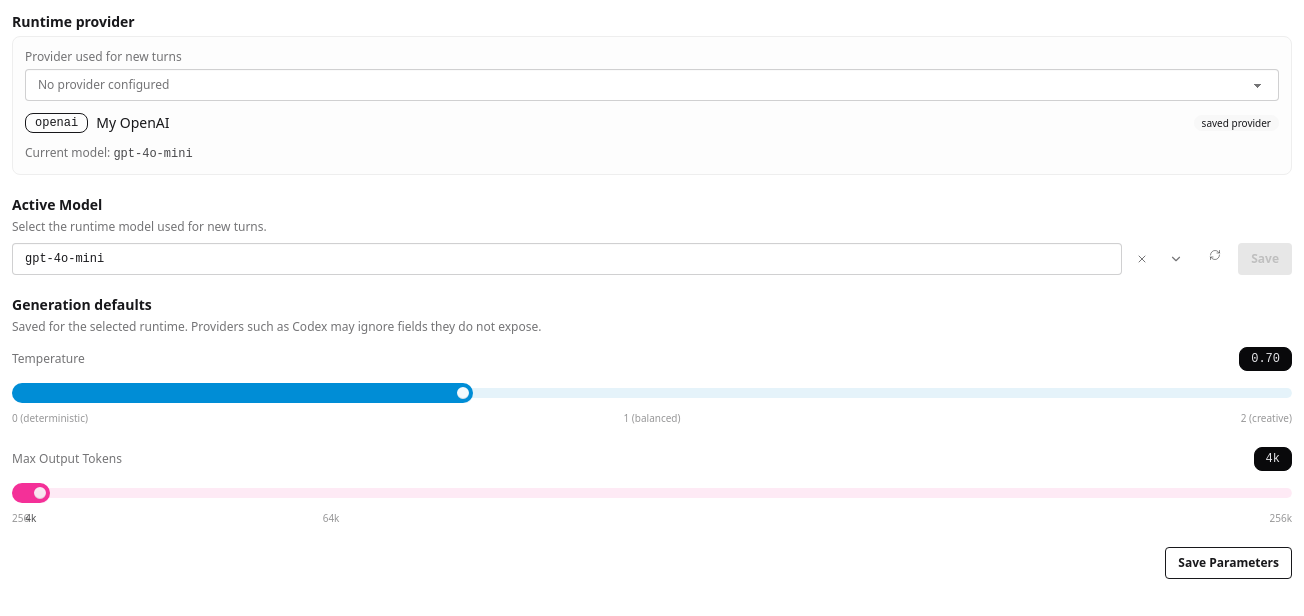
ModelSettingsSection › clears a stale model-save error before a successful retry (REGRESSION)
This screenshot has width=1304, height=616.
Clear the dropdown with test id "model-selector" at (567, 259), box [12, 243, 1122, 275]
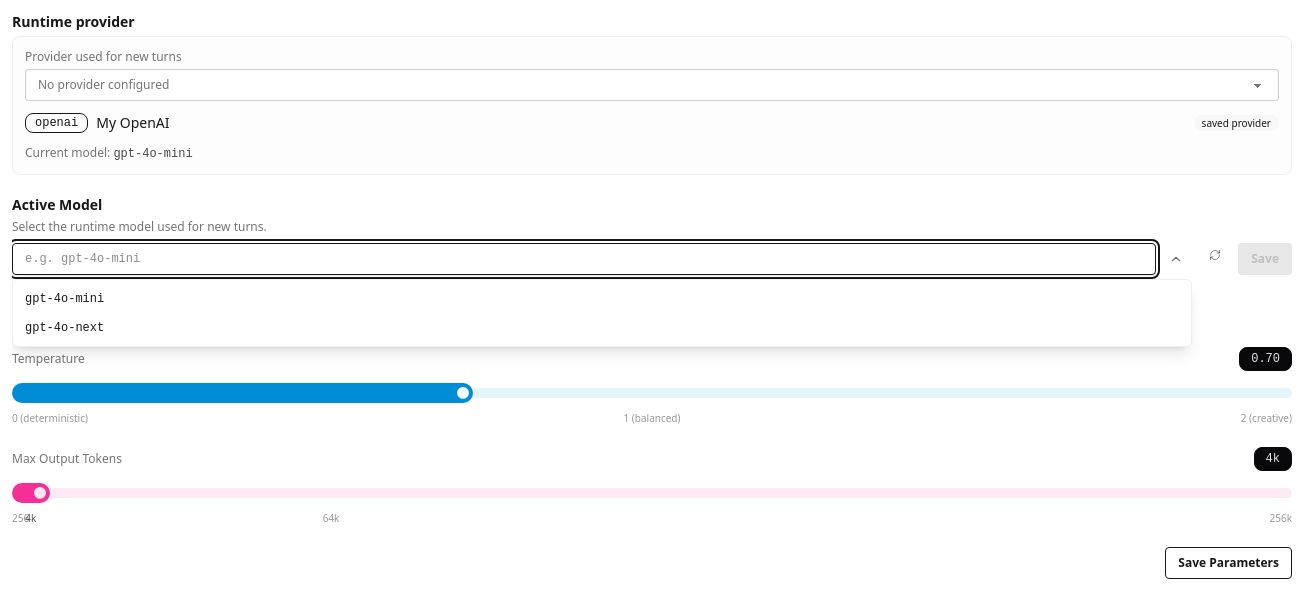
Type "gpt-4o-next" into the dropdown with test id "model-selector".
click(584, 259); type("gpt-4o-next")  # box [12, 243, 1156, 275]
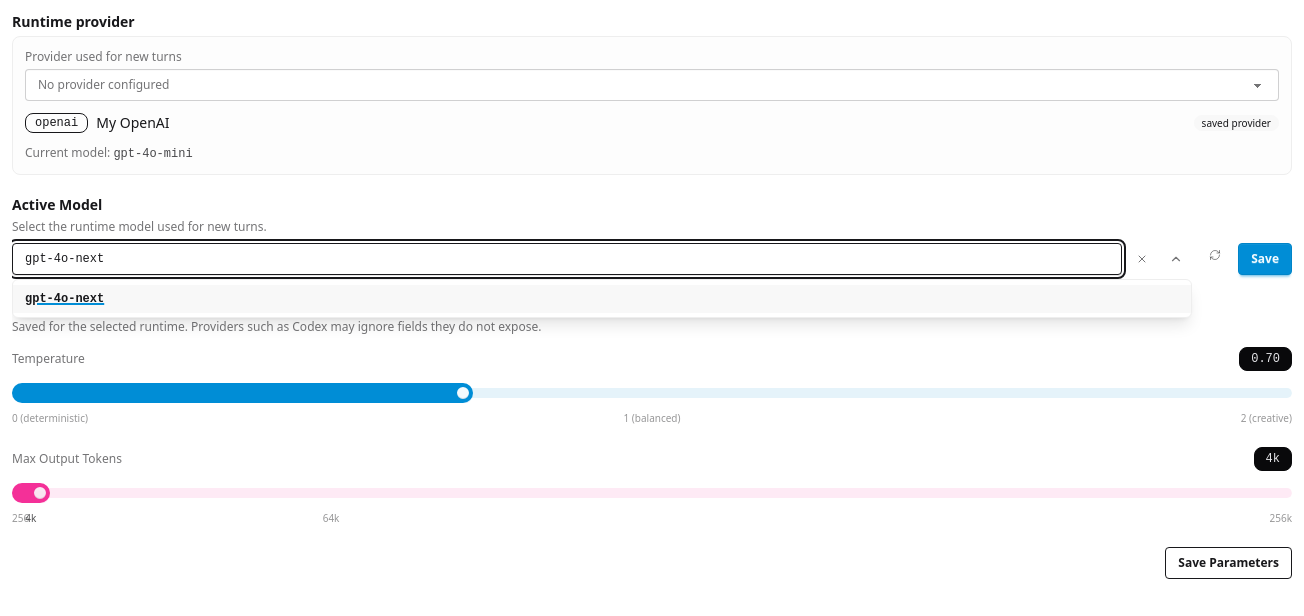
Click the button with test id "model-save".
click(1265, 259)  # box [1238, 243, 1292, 275]
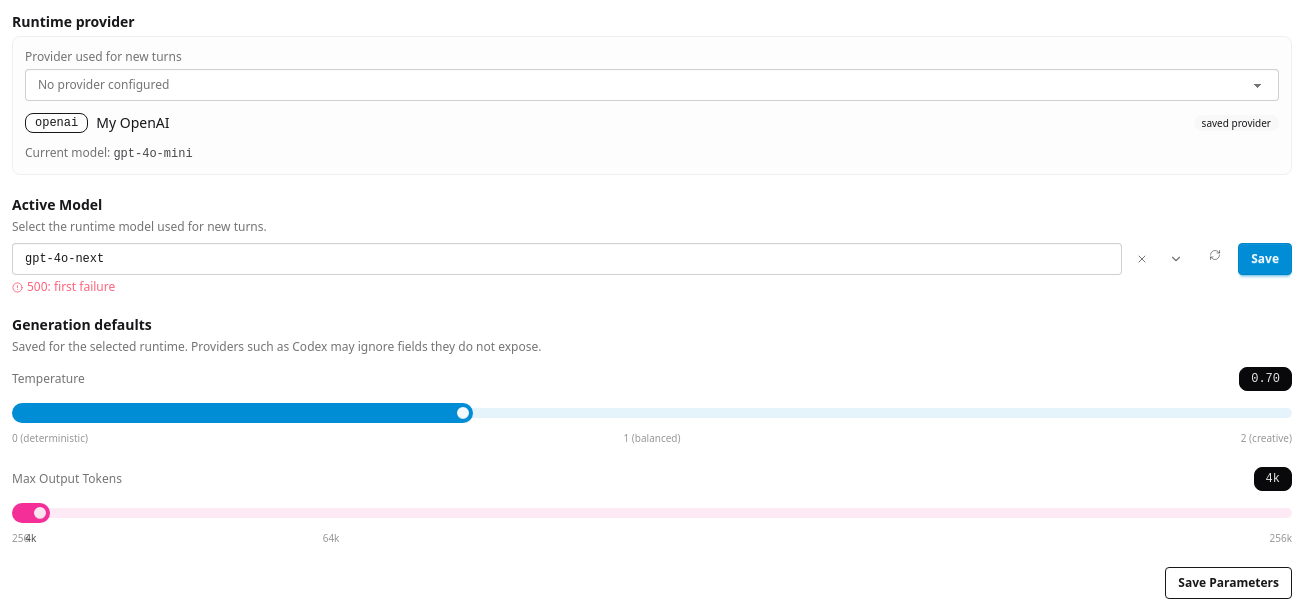
Expected: the text "500: first failure" is shown, [12, 278, 115, 295]
Click the button with test id "model-save".
click(1265, 259)  # box [1238, 243, 1292, 275]
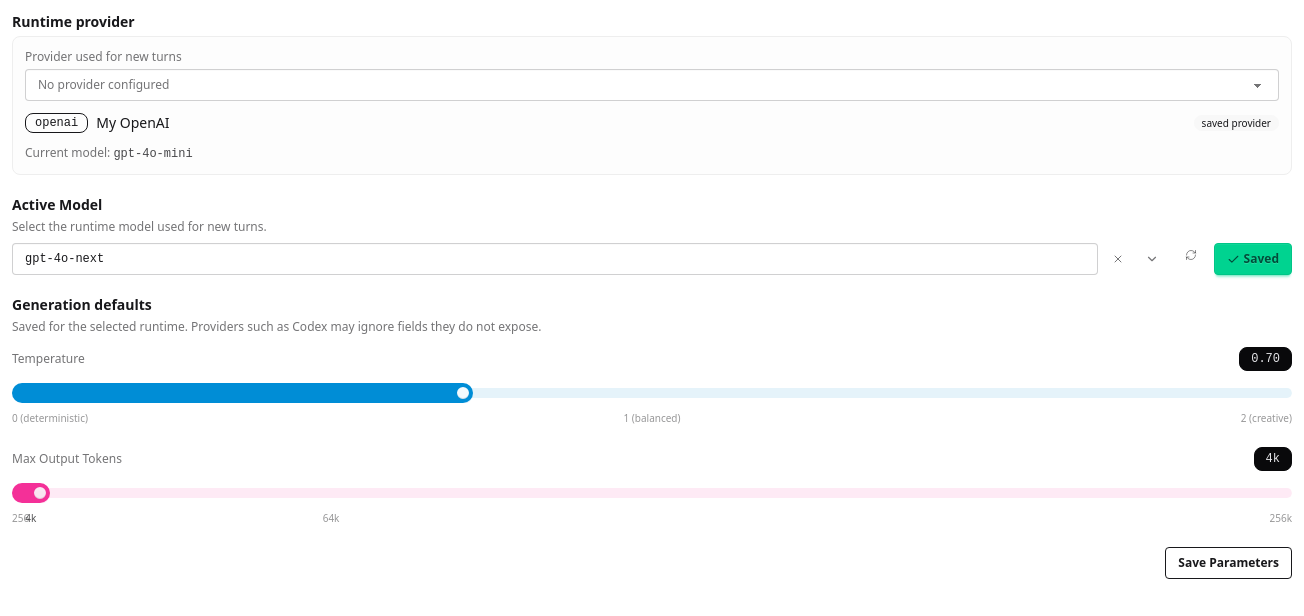
Expected: the text "500: first failure" is gone
